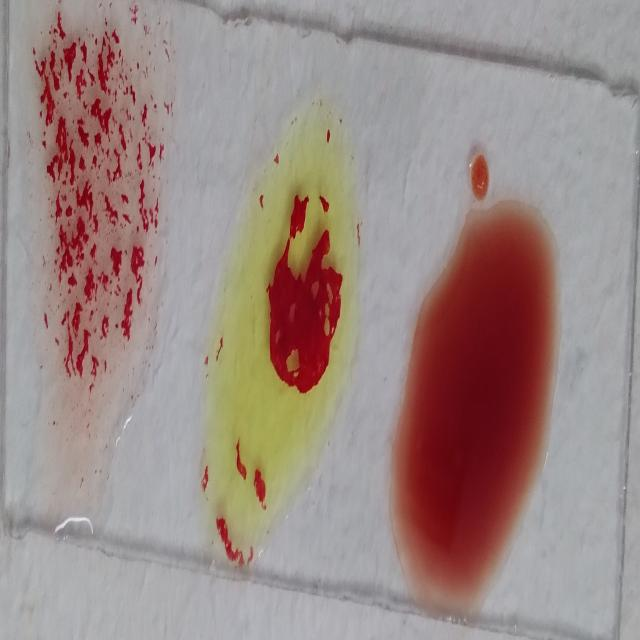B: (205, 108, 349, 585)
D: (27, 9, 167, 437)
